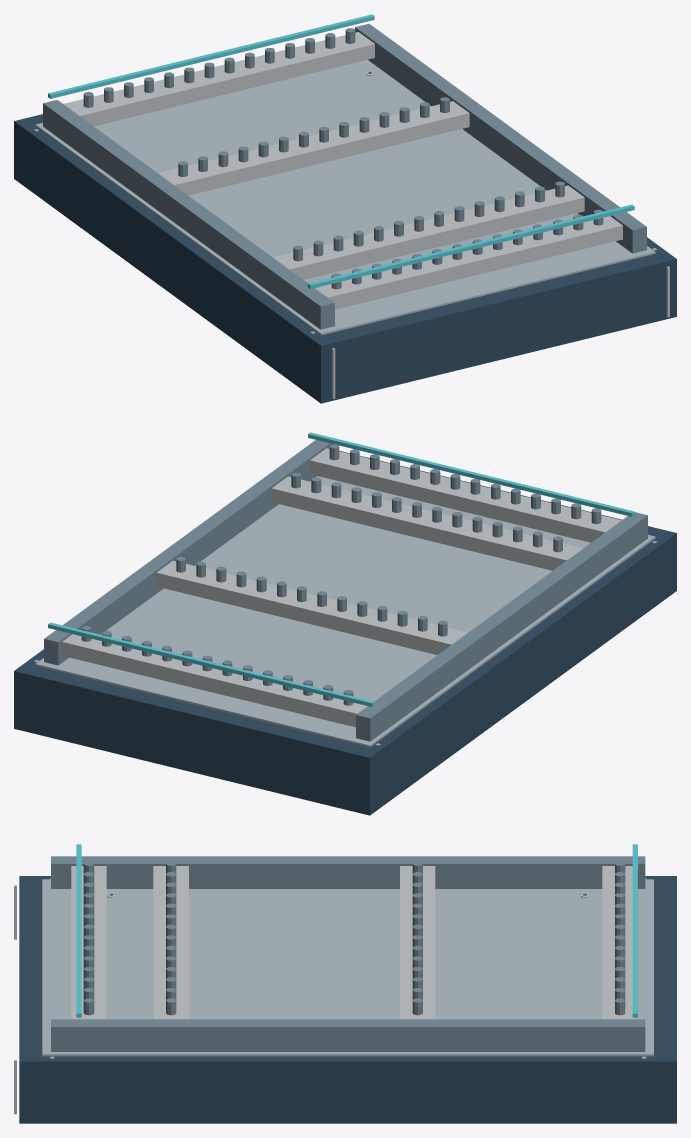
Rendered from 02_L74_AutomatedPhotoresistTrack.glb.
3 renders of one model, top to bottom at view 1: azimuth 30°, elevation 25°; view 2: azimuth 150°, elevation 25°; view 3: azimuth 270°, elevation 25°, orthographic. The views are drawn at different scales.
Visible parts, largest first — view 1: AutomatedPhotoresistTrack_Node_0007, AutomatedPhotoresistTrack_Node_0000, AutomatedPhotoresistTrack_Node_0082, AutomatedPhotoresistTrack_Node_0083, AutomatedPhotoresistTrack_Node_0020, AutomatedPhotoresistTrack_Node_0035, AutomatedPhotoresistTrack_Node_0050, AutomatedPhotoresistTrack_Node_0065, AutomatedPhotoresistTrack_Node_0081, AutomatedPhotoresistTrack_Node_0080; view 2: AutomatedPhotoresistTrack_Node_0007, AutomatedPhotoresistTrack_Node_0000, AutomatedPhotoresistTrack_Node_0082, AutomatedPhotoresistTrack_Node_0083, AutomatedPhotoresistTrack_Node_0050, AutomatedPhotoresistTrack_Node_0035, AutomatedPhotoresistTrack_Node_0065, AutomatedPhotoresistTrack_Node_0020, AutomatedPhotoresistTrack_Node_0080, AutomatedPhotoresistTrack_Node_0081; view 3: AutomatedPhotoresistTrack_Node_0007, AutomatedPhotoresistTrack_Node_0000, AutomatedPhotoresistTrack_Node_0083, AutomatedPhotoresistTrack_Node_0082, AutomatedPhotoresistTrack_Node_0050, AutomatedPhotoresistTrack_Node_0035, AutomatedPhotoresistTrack_Node_0065, AutomatedPhotoresistTrack_Node_0020, AutomatedPhotoresistTrack_Node_0080, AutomatedPhotoresistTrack_Node_0081.
Part boxes in pixels (x1,y1,x2,y2): AutomatedPhotoresistTrack_Node_0007: (35, 60, 655, 335); AutomatedPhotoresistTrack_Node_0000: (14, 114, 676, 403); AutomatedPhotoresistTrack_Node_0082: (43, 100, 334, 329); AutomatedPhotoresistTrack_Node_0083: (355, 23, 646, 253); AutomatedPhotoresistTrack_Node_0020: (63, 32, 374, 126); AutomatedPhotoresistTrack_Node_0035: (158, 101, 469, 195); AutomatedPhotoresistTrack_Node_0050: (273, 185, 584, 279); AutomatedPhotoresistTrack_Node_0065: (315, 216, 622, 309); AutomatedPhotoresistTrack_Node_0081: (308, 204, 634, 288); AutomatedPhotoresistTrack_Node_0080: (48, 14, 374, 98); AutomatedPhotoresistTrack_Node_0007: (35, 476, 655, 747); AutomatedPhotoresistTrack_Node_0000: (14, 450, 676, 815); AutomatedPhotoresistTrack_Node_0082: (356, 512, 647, 741); AutomatedPhotoresistTrack_Node_0083: (44, 440, 333, 665); AutomatedPhotoresistTrack_Node_0050: (271, 476, 582, 570); AutomatedPhotoresistTrack_Node_0035: (156, 560, 467, 654); AutomatedPhotoresistTrack_Node_0065: (310, 448, 621, 542); AutomatedPhotoresistTrack_Node_0020: (62, 634, 367, 727); AutomatedPhotoresistTrack_Node_0080: (48, 622, 374, 706); AutomatedPhotoresistTrack_Node_0081: (308, 432, 634, 516); AutomatedPhotoresistTrack_Node_0007: (42, 879, 653, 1056); AutomatedPhotoresistTrack_Node_0000: (19, 876, 676, 1123); AutomatedPhotoresistTrack_Node_0083: (51, 1019, 645, 1051); AutomatedPhotoresistTrack_Node_0082: (51, 856, 645, 888); AutomatedPhotoresistTrack_Node_0050: (153, 866, 188, 1019); AutomatedPhotoresistTrack_Node_0035: (400, 866, 435, 1019); AutomatedPhotoresistTrack_Node_0065: (71, 866, 106, 1019); AutomatedPhotoresistTrack_Node_0020: (602, 866, 637, 1019); AutomatedPhotoresistTrack_Node_0080: (632, 844, 637, 1017); AutomatedPhotoresistTrack_Node_0081: (76, 844, 81, 1017).
Size of the model in its own units: 3.48 by 0.8875 by 5.24.
